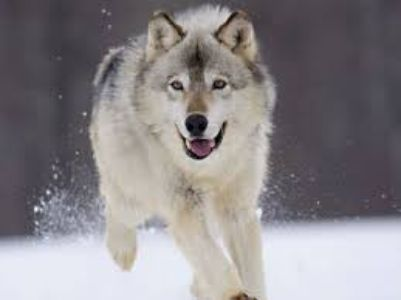wolf: (97, 6, 283, 290)
